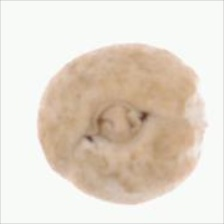L3: (89, 101, 146, 141)
L4: (36, 42, 206, 204)
